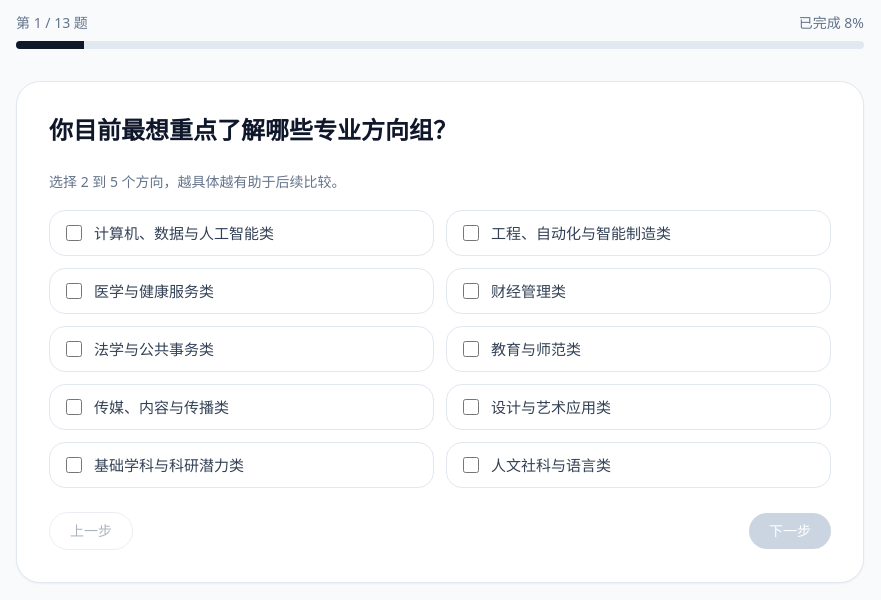
Test: QuestionnairePage › enables the next button after selecting two direction groups
Click the checkbox labelled "计算机、数据与人工智能类". click: coordinates (74, 233)
box: [66,225,82,241]
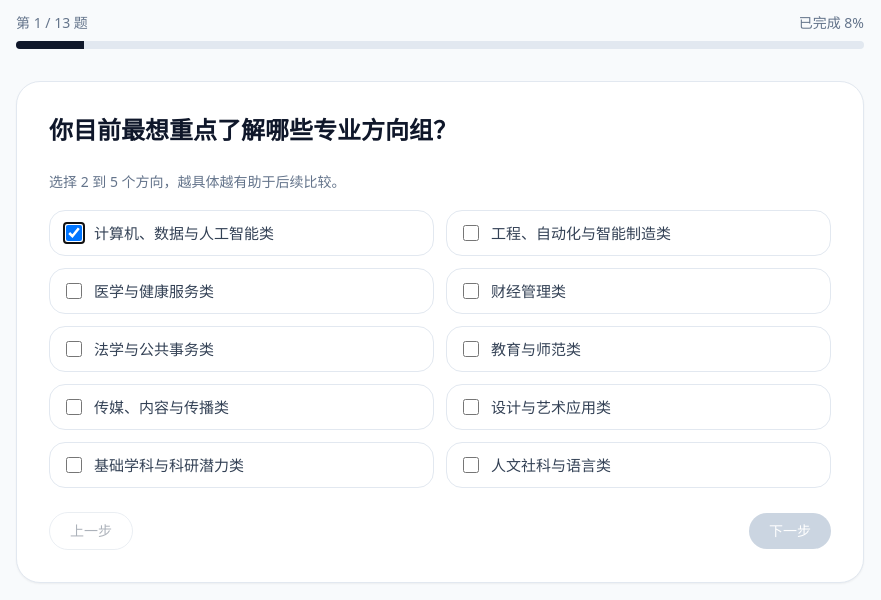
Click the checkbox labelled "财经管理类". click: coordinates (471, 291)
box: [463,283,479,299]
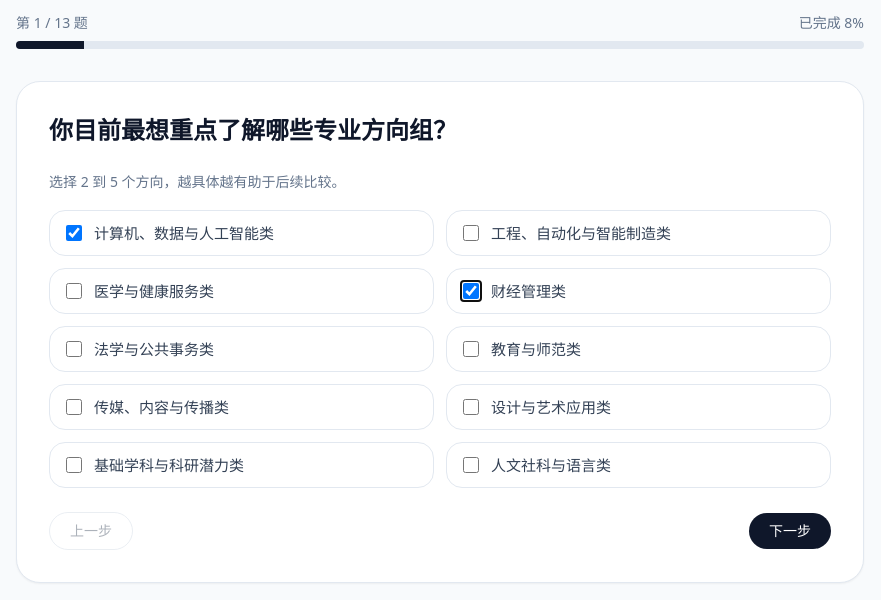
Check: the button "下一步" is enabled, box [749,513,831,549]
